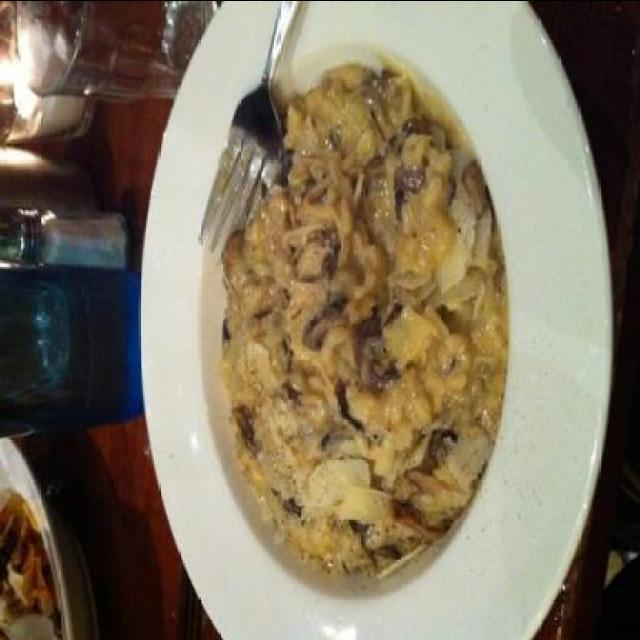Risotto: (210, 61, 526, 584)
